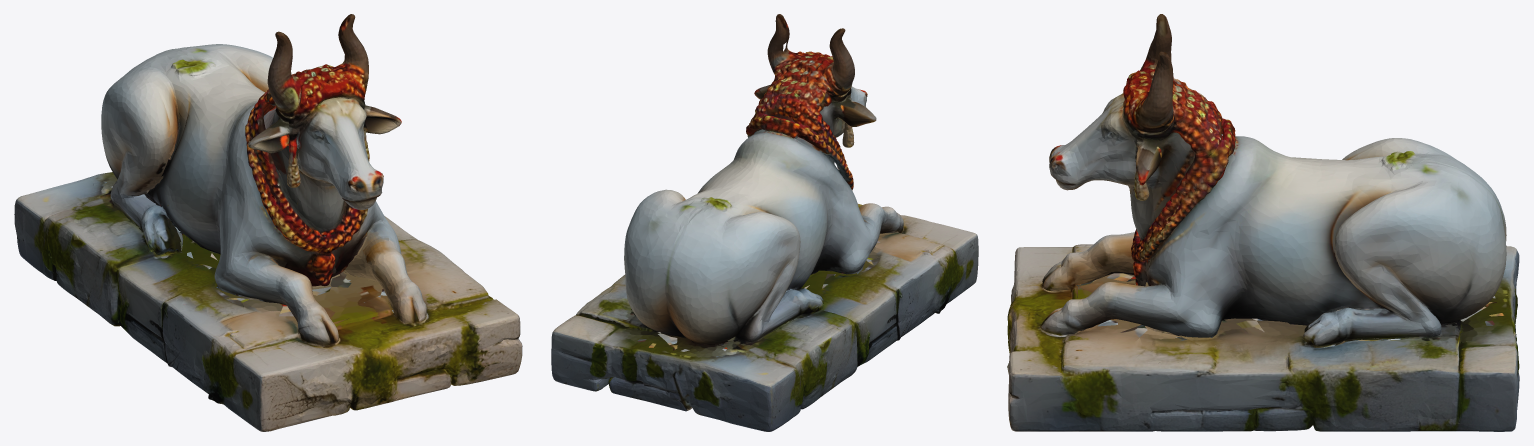
Rendered from broken-stone-nandi-bull-sculpture-optimized.glb.
3 views of the same model, side by side, from view 1: azimuth 30°, elevation 25°; view 2: azimuth 150°, elevation 25°; view 3: azimuth 270°, elevation 25° (orthographic). The views are drawn at different scales.
Visible parts, largest first — view 1: 808a8ad3-ebc6-4be0-a5ba-0f57a4c195ce_texturing.obj; view 2: 808a8ad3-ebc6-4be0-a5ba-0f57a4c195ce_texturing.obj; view 3: 808a8ad3-ebc6-4be0-a5ba-0f57a4c195ce_texturing.obj.
Boxes of the visible parts, x1,y1,x2,y2 form: 808a8ad3-ebc6-4be0-a5ba-0f57a4c195ce_texturing.obj: (14, 14, 522, 431); 808a8ad3-ebc6-4be0-a5ba-0f57a4c195ce_texturing.obj: (551, 14, 978, 431); 808a8ad3-ebc6-4be0-a5ba-0f57a4c195ce_texturing.obj: (1007, 14, 1519, 431).
Bounding box in the file's own units: 1.35 × 1.59 × 2.2.
1 material, 1 textured.
